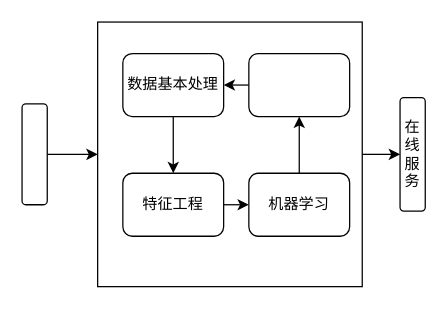
The diagram is 447 pixels wide and 309 high, and some of its shapes have lost their labels. The box of each missing label's shape, as (x1, y1, x2, y2) in pixels:
模型评估: (248, 52, 350, 117)
用户数据: (21, 103, 47, 205)
